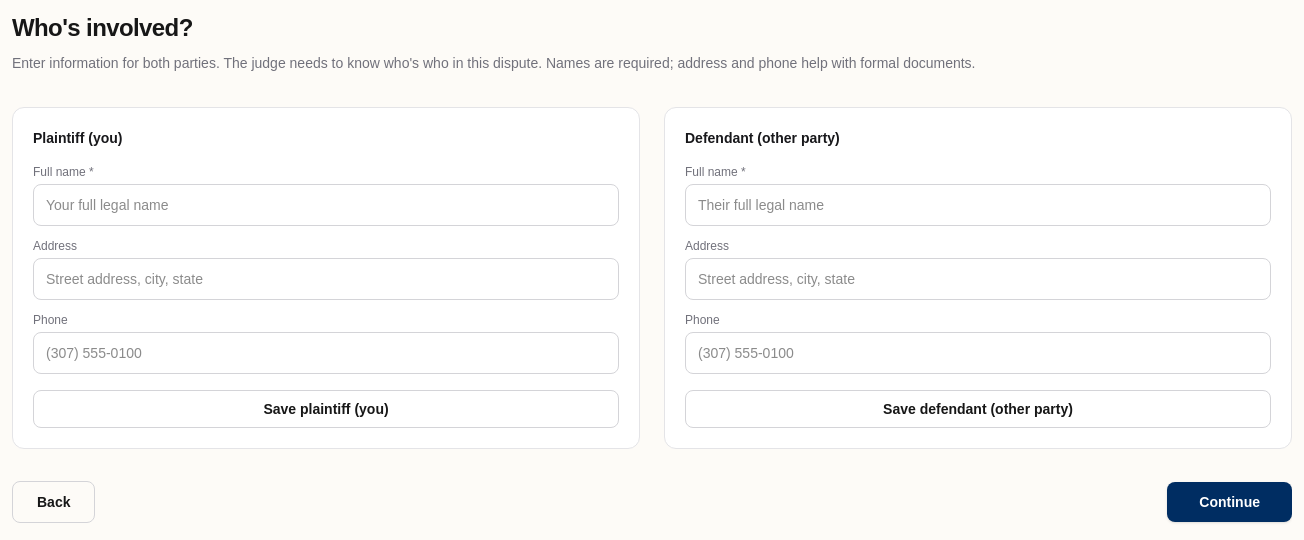
PartiesStep › formats phone input as (xxx) xxx-xxxx
Type "3075550100" into the 1st field with placeholder "(307) 555-0100".
click(326, 353); type("3075550100")  # box [33,332,619,374]
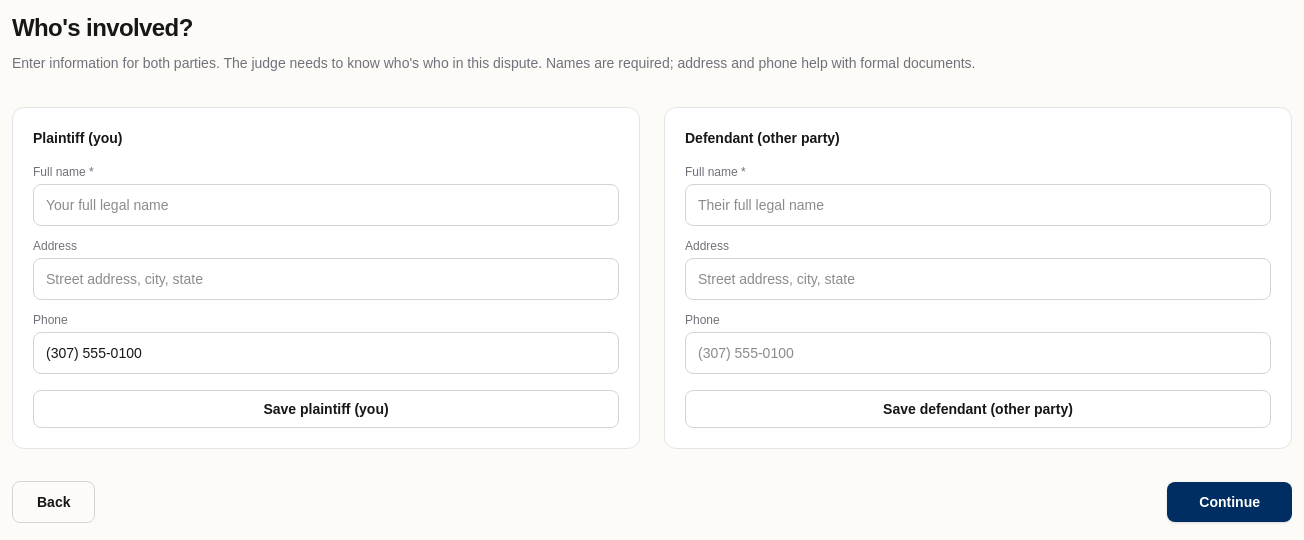
Check: the 1st field with placeholder "(307) 555-0100" holds "(307) 555-0100", box [33,332,619,374]
